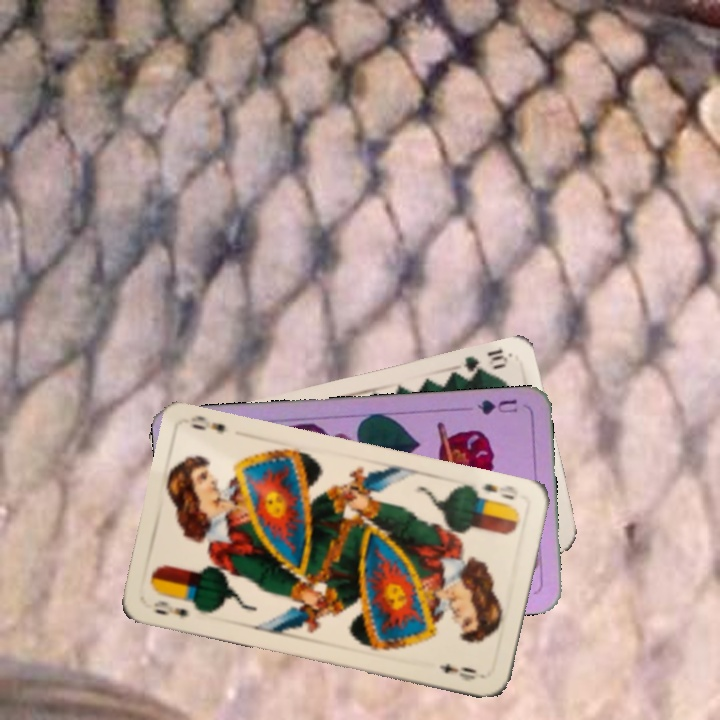EO: (479, 479, 521, 503), (149, 596, 191, 619)
G10: (455, 344, 511, 381)
GU: (473, 395, 520, 417)
